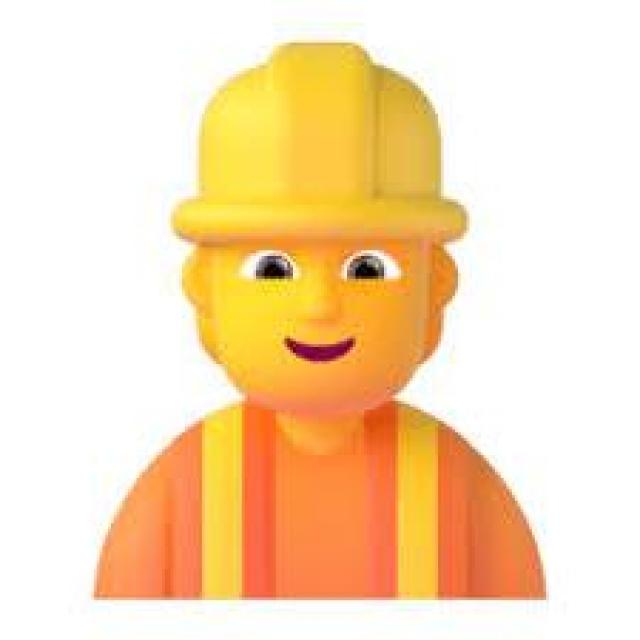Reflective-Jacket: (34, 398, 634, 606)
Safety-Helmet: (168, 34, 475, 242)
